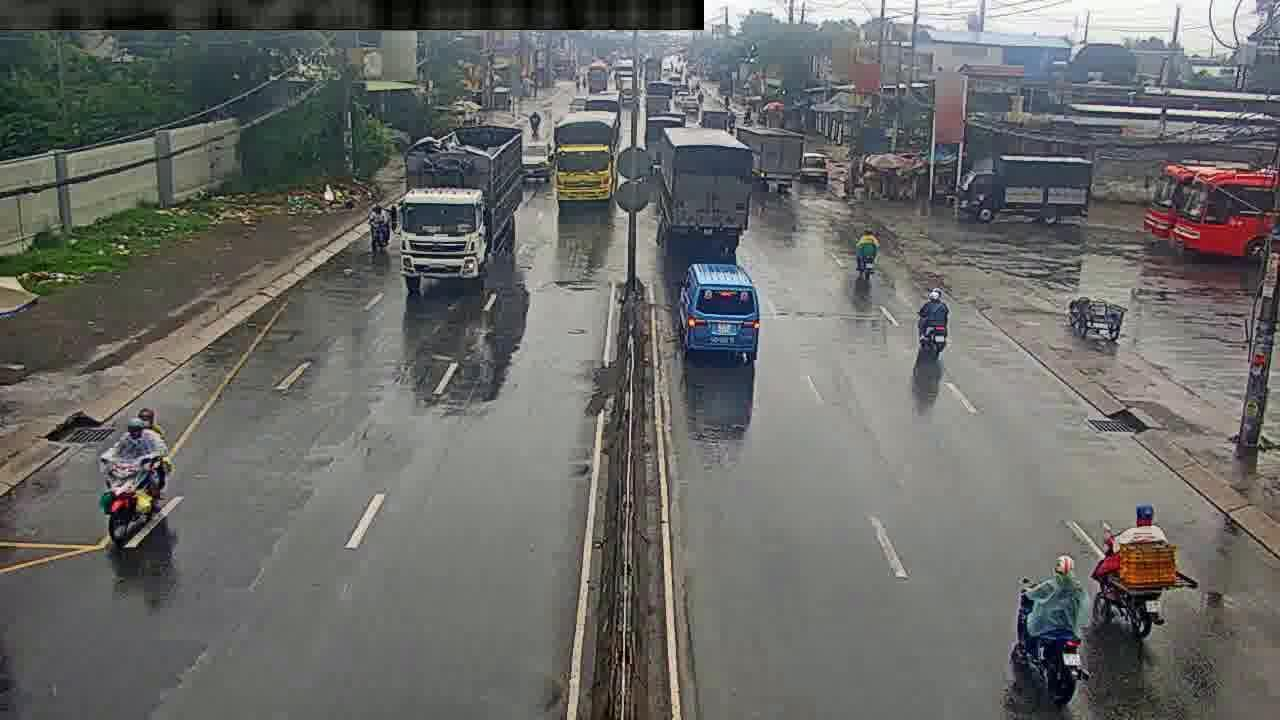8: (399, 120, 529, 288), (659, 129, 751, 256), (553, 120, 618, 205)
container: (683, 264, 753, 354)
motorbike: (1097, 505, 1172, 641), (1012, 549, 1081, 695), (102, 403, 171, 542), (917, 285, 951, 361), (364, 197, 389, 259), (856, 226, 880, 282)
